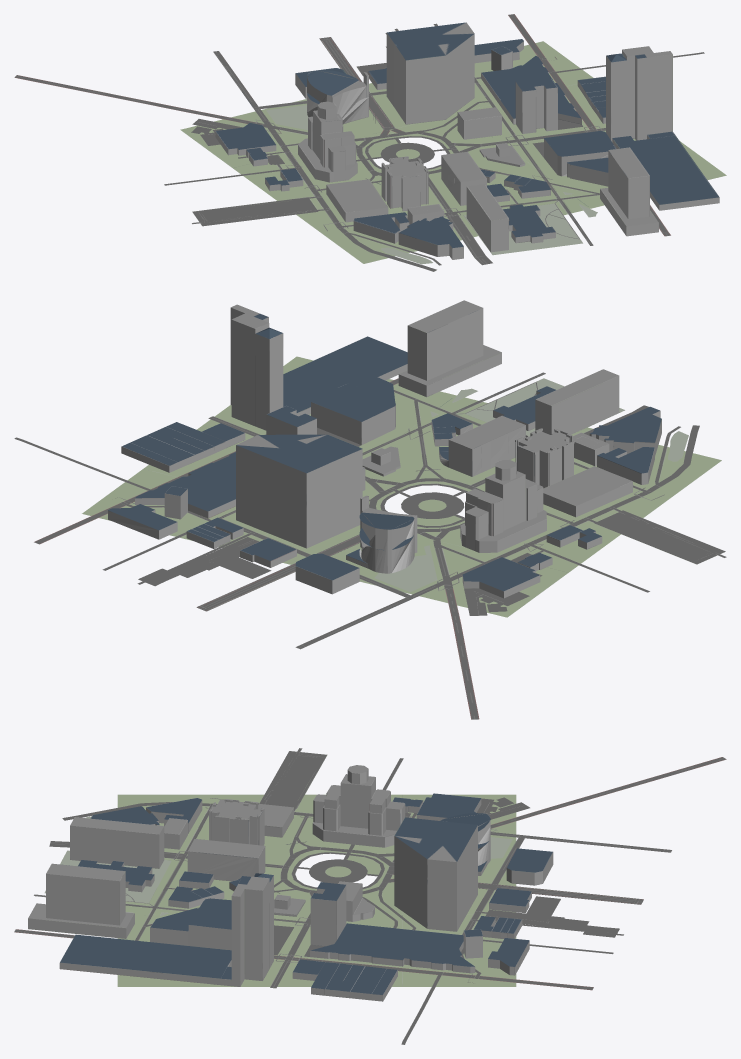
File: map.obj
3 renders of one model, top to bottom at view 1: azimuth 30°, elevation 25°; view 2: azimuth 150°, elevation 25°; view 3: azimuth 270°, elevation 25°, orthographic. The views are drawn at different scales.
Parts seen in each view (by area): view 1: RoadJunction95; view 2: RoadJunction95; view 3: RoadJunction95.
Boxes of the visible parts, bbox=[...] form: RoadJunction95: bbox=[14, 14, 726, 271]; RoadJunction95: bbox=[14, 300, 726, 719]; RoadJunction95: bbox=[14, 748, 726, 1044].
Bounding box in the file's own units: 740 × 108 × 751.
1 material, 1 textured.
